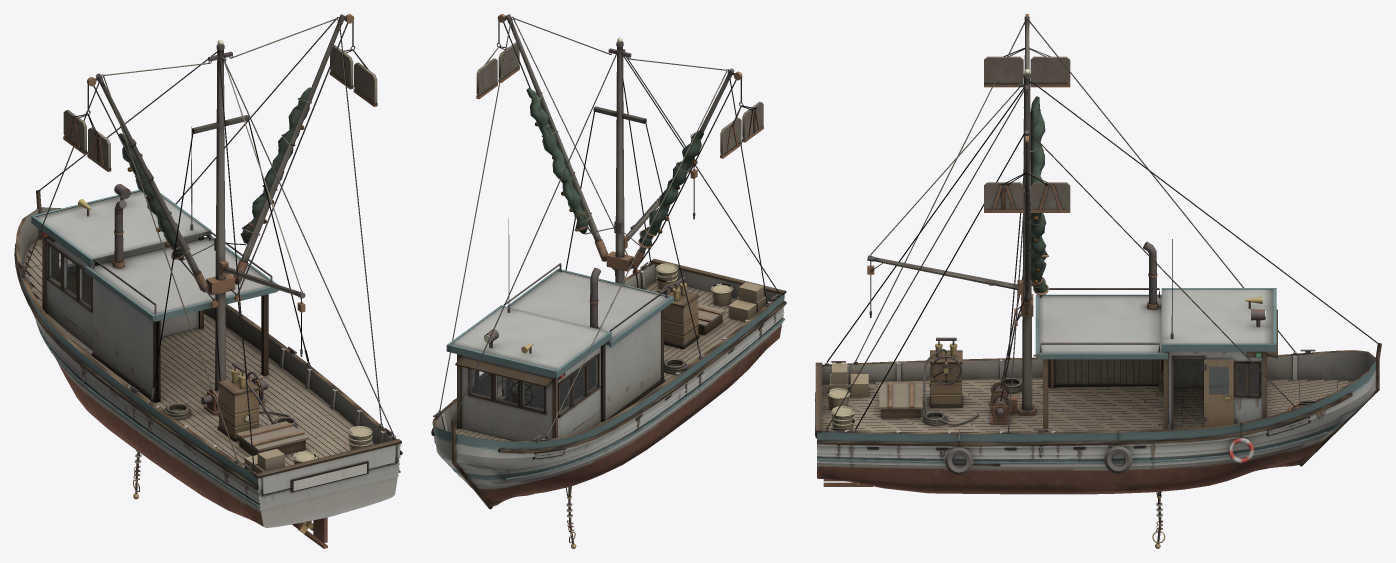
The model's file is shrimp_boat.glb.
3 renders of one model, left to right at view 1: azimuth 30°, elevation 25°; view 2: azimuth 150°, elevation 25°; view 3: azimuth 270°, elevation 25°, orthographic. The views are drawn at different scales.
Parts seen in each view (by area): view 1: Boat, OutriggerStarboard, OutriggerPort; view 2: Boat, OutriggerStarboard, OutriggerPort; view 3: Boat, OutriggerStarboard, OutriggerPort.
Part boxes in pixels (box(x1,y1,x2,y2)): Boat: box(14, 40, 402, 548); OutriggerStarboard: box(175, 14, 381, 424); OutriggerPort: box(23, 62, 237, 459); Boat: box(431, 37, 786, 548); OutriggerStarboard: box(439, 14, 627, 410); OutriggerPort: box(546, 58, 767, 437); Boat: box(815, 69, 1381, 548); OutriggerStarboard: box(855, 94, 1294, 428); OutriggerPort: box(856, 14, 1294, 360).
Bounding box in the file's own units: 7.04 × 12.49 × 13.16.
27 materials, 26 textured.
